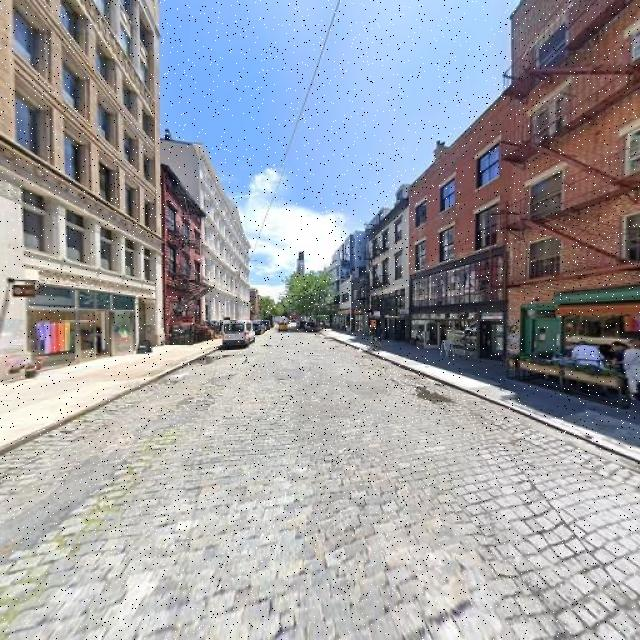Building: (1, 1, 155, 379), (514, 1, 640, 395), (412, 92, 509, 367), (202, 155, 247, 337), (159, 163, 199, 345), (370, 197, 409, 345)
